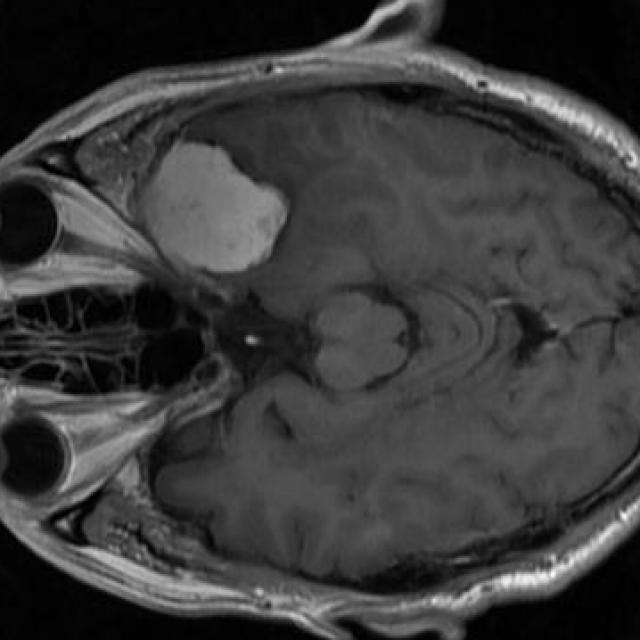meningioma: (143, 143, 287, 275)
